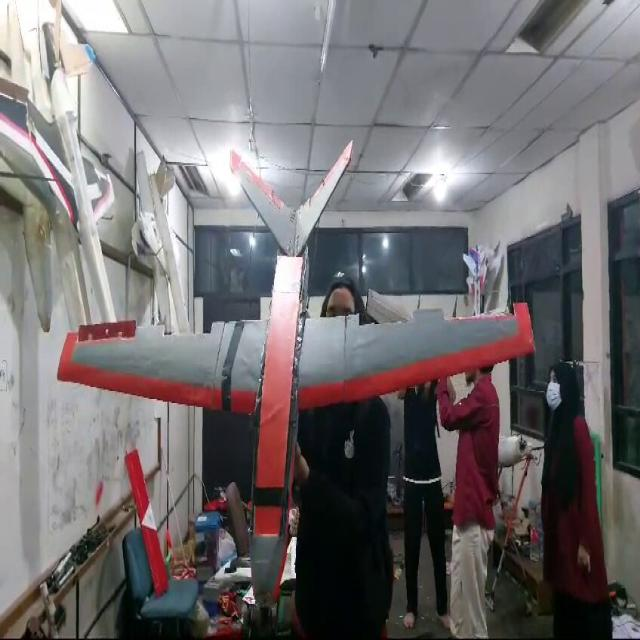plane: (56, 138, 536, 621)
